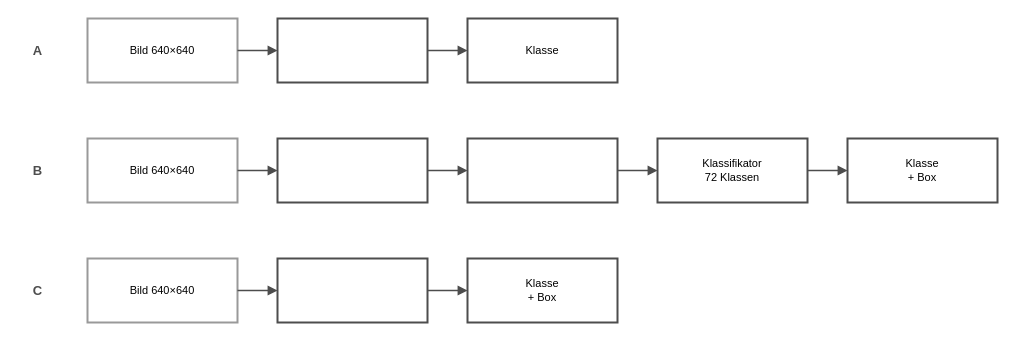
This 1015x340 diagram has some shape labels left out. Here are the shapes that lost their labels. From the top down, the centre of each, then its label:
At point 352,50: "Klassifikator 73 Klassen (72 + none)".
At point 352,170: "OBB-Detektor 1 Klasse «Karte»".
At point 542,170: "Entzerrung (Homographie)".
At point 352,290: "Detektor 72 Klassen".
